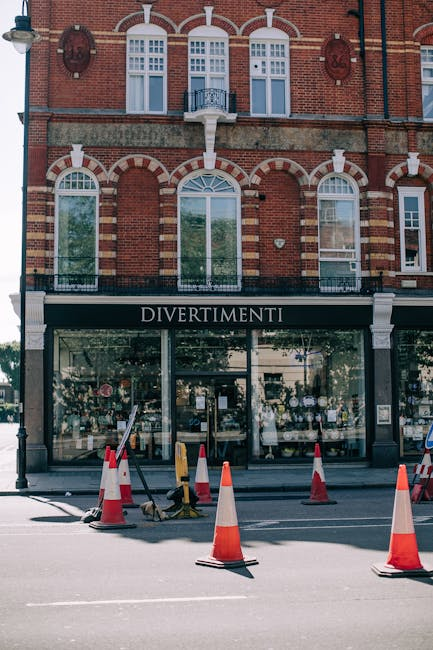traffic_cone: (370, 464, 433, 578), (195, 461, 259, 569), (88, 450, 137, 530), (300, 442, 338, 505), (81, 445, 111, 523), (117, 446, 139, 508), (193, 443, 214, 506), (410, 448, 433, 503), (96, 446, 112, 506), (311, 443, 327, 485)
